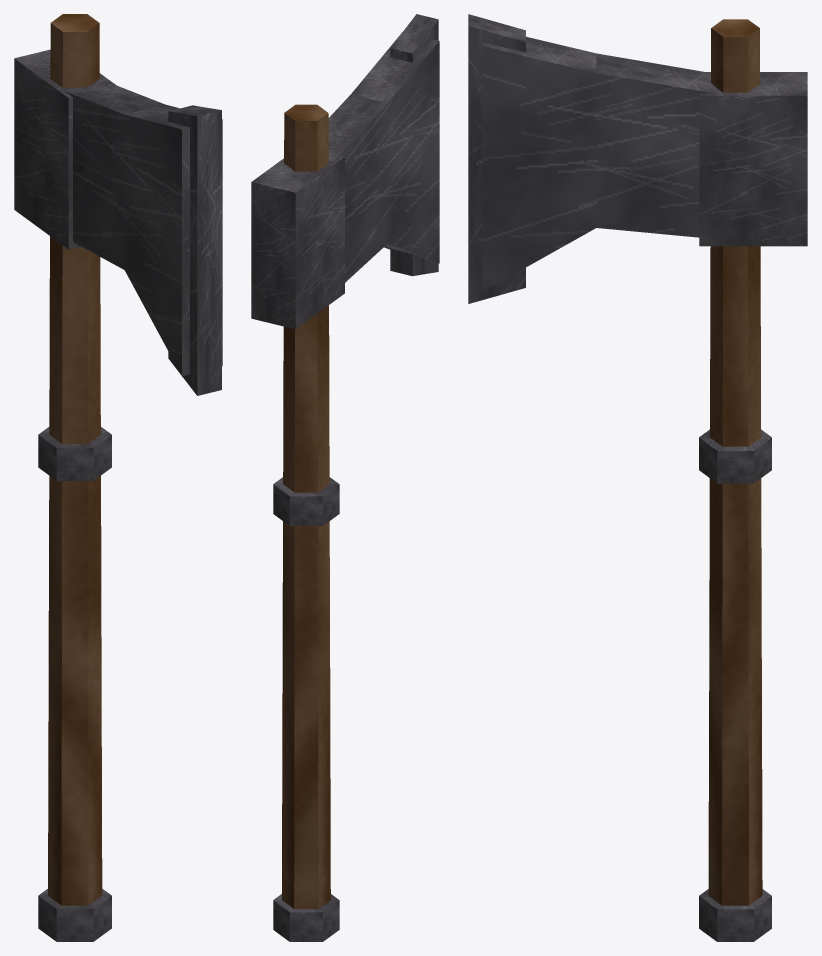
File: ApprenticeAxe.fbx
3 renders of one model, left to right at view 1: azimuth 30°, elevation 25°; view 2: azimuth 150°, elevation 25°; view 3: azimuth 270°, elevation 25°, orthographic. The views are drawn at different scales.
Parts seen in each view (by area): view 1: Head, Handle; view 2: Head, Handle; view 3: Head, Handle.
Part boxes in pixels (x1=…): Head: x1=14, y1=49, x2=222, y2=395; Handle: x1=38, y1=14, x2=111, y2=941; Head: x1=251, y1=14, x2=439, y2=329; Handle: x1=273, y1=104, x2=339, y2=941; Head: x1=468, y1=14, x2=807, y2=303; Handle: x1=699, y1=19, x2=771, y2=941.
Bounding box in the file's own units: 17.54 × 278 × 94.
1 material, 1 textured.
